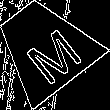M_NW: (10, 13, 79, 81)
